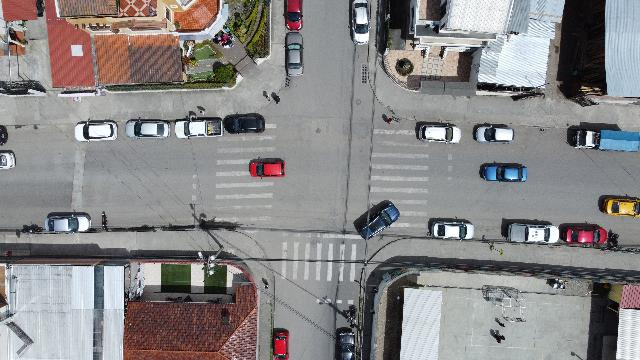Vehiculo: (353, 200, 399, 240), (508, 222, 560, 244), (559, 223, 607, 245), (74, 118, 118, 142), (175, 116, 223, 138), (415, 122, 461, 144), (428, 217, 474, 239), (598, 194, 640, 218), (126, 118, 170, 140), (479, 162, 527, 182), (45, 212, 91, 232), (223, 112, 264, 134), (350, 0, 370, 44), (284, 32, 304, 76), (472, 123, 514, 143), (249, 158, 285, 178), (336, 330, 356, 360), (284, 0, 302, 30), (272, 330, 290, 360), (0, 150, 16, 170), (1, 125, 8, 145)
